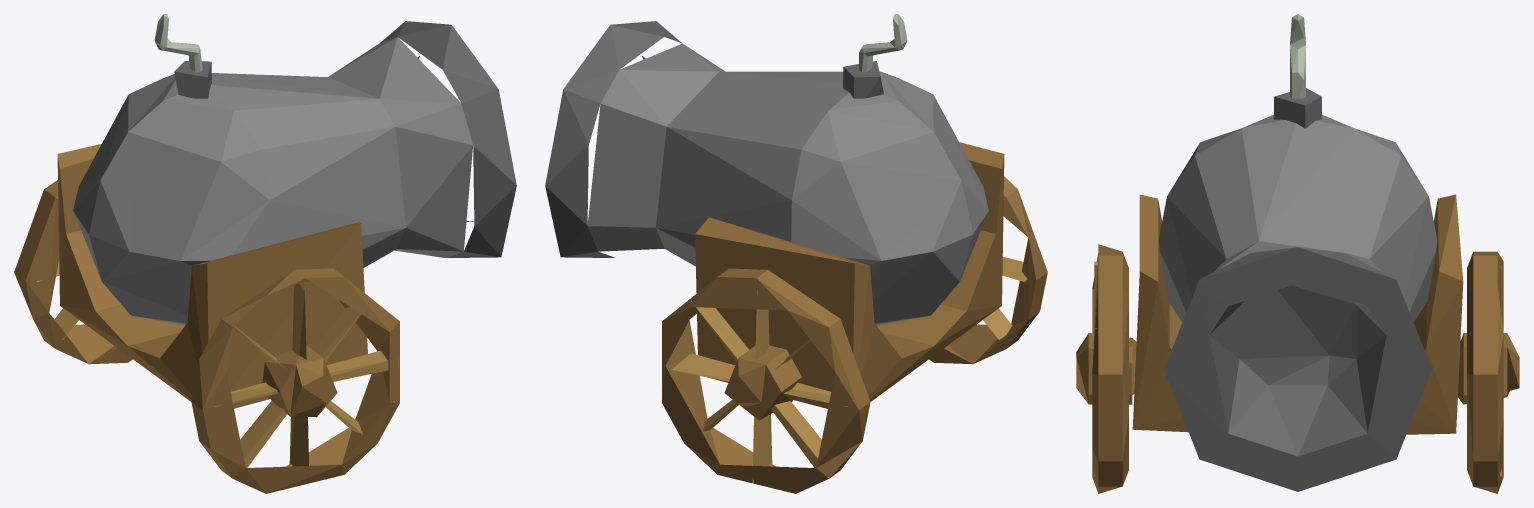
Rendered from cannon_lod.glb.
The picture shows the model from 3 angles, left to right: view 1: azimuth 30°, elevation 25°; view 2: azimuth 150°, elevation 25°; view 3: azimuth 270°, elevation 25°; orthographic projection. The views are drawn at different scales.
Visible parts, largest first — view 1: Cannon, Cannon_Wheels; view 2: Cannon, Cannon_Wheels; view 3: Cannon, Cannon_Wheels.
Boxes of the visible parts, <box> form: Cannon: <box>57,14,516,408</box>; Cannon_Wheels: <box>14,180,399,493</box>; Cannon: <box>545,14,1004,408</box>; Cannon_Wheels: <box>662,176,1047,493</box>; Cannon: <box>1132,14,1463,491</box>; Cannon_Wheels: <box>1076,244,1519,493</box>.
Bounding box in the file's own units: 3.35 × 3.67 × 3.32.
